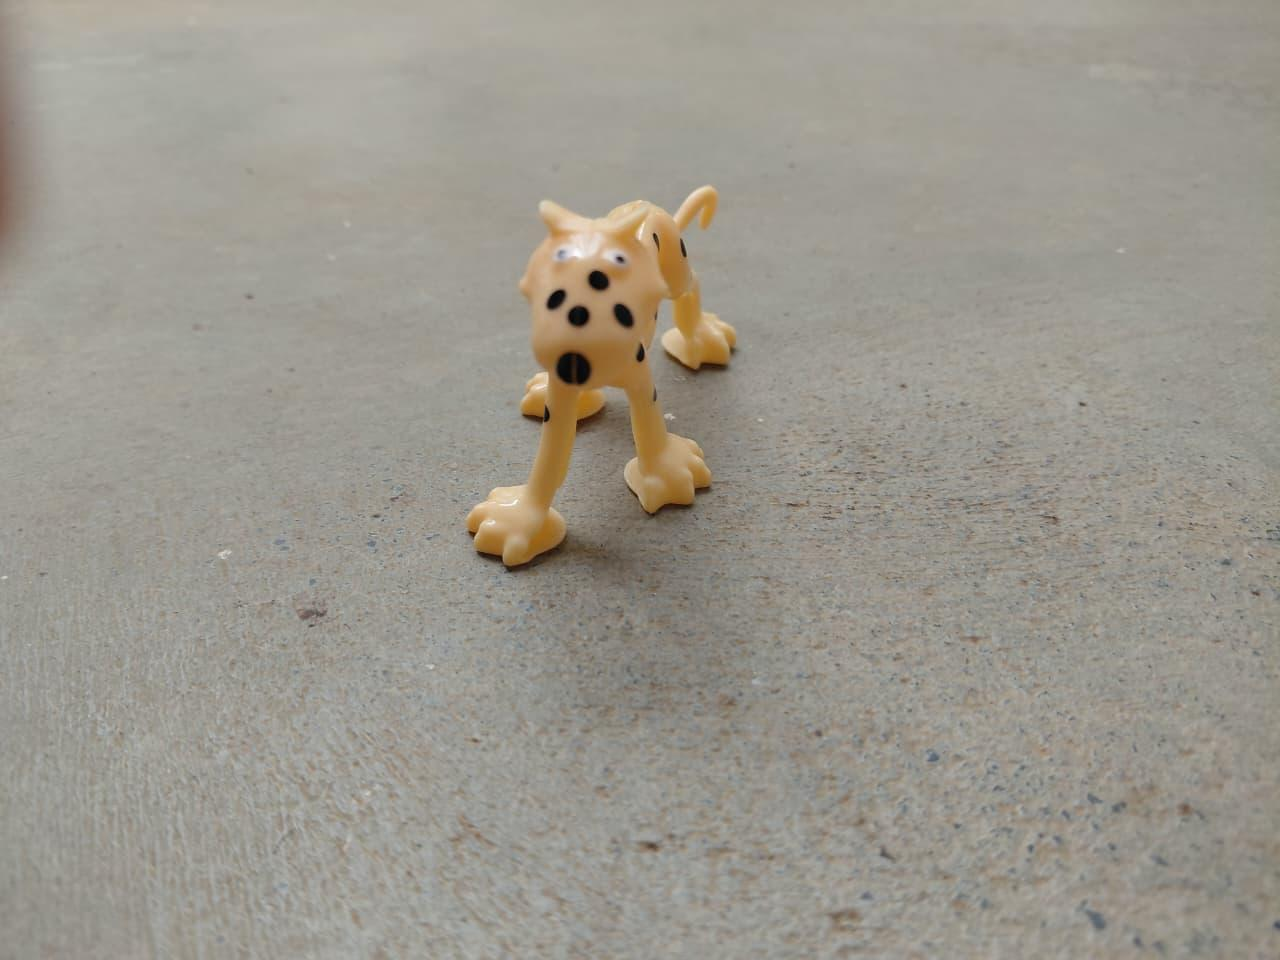cheetah: (450, 164, 754, 572)
